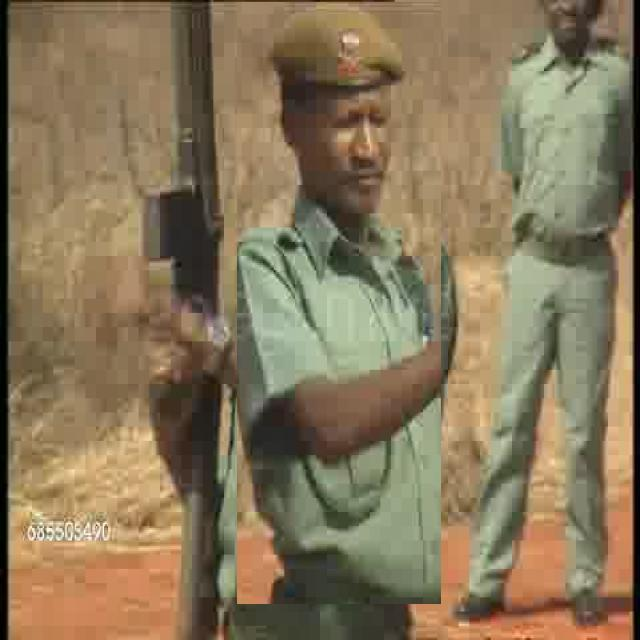poacher: (238, 2, 442, 604), (474, 1, 640, 522)
weapon: (137, 2, 231, 590)
